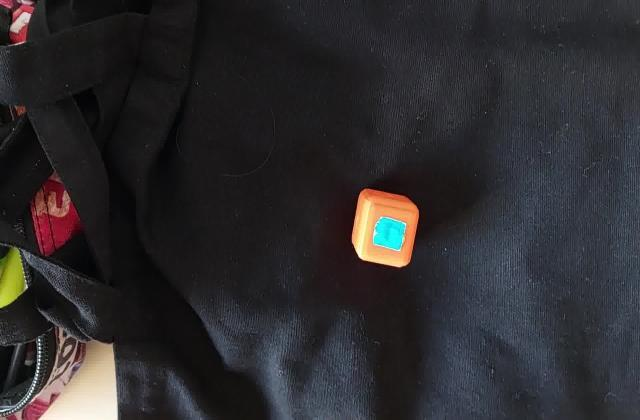blue: (379, 224, 402, 244)
sticker: (349, 188, 421, 270)
